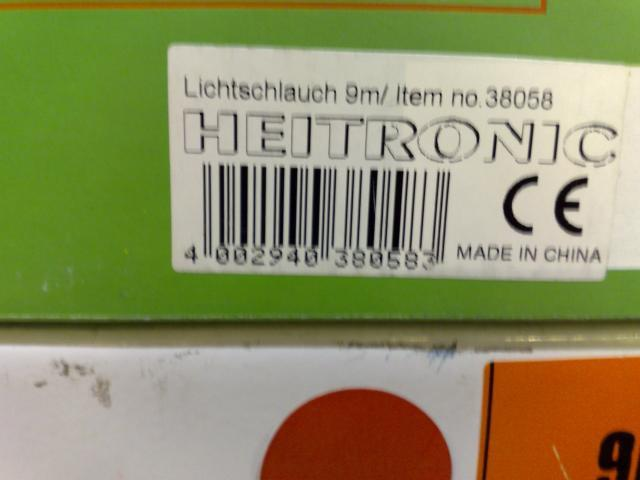Barcode: (175, 168, 454, 276)
